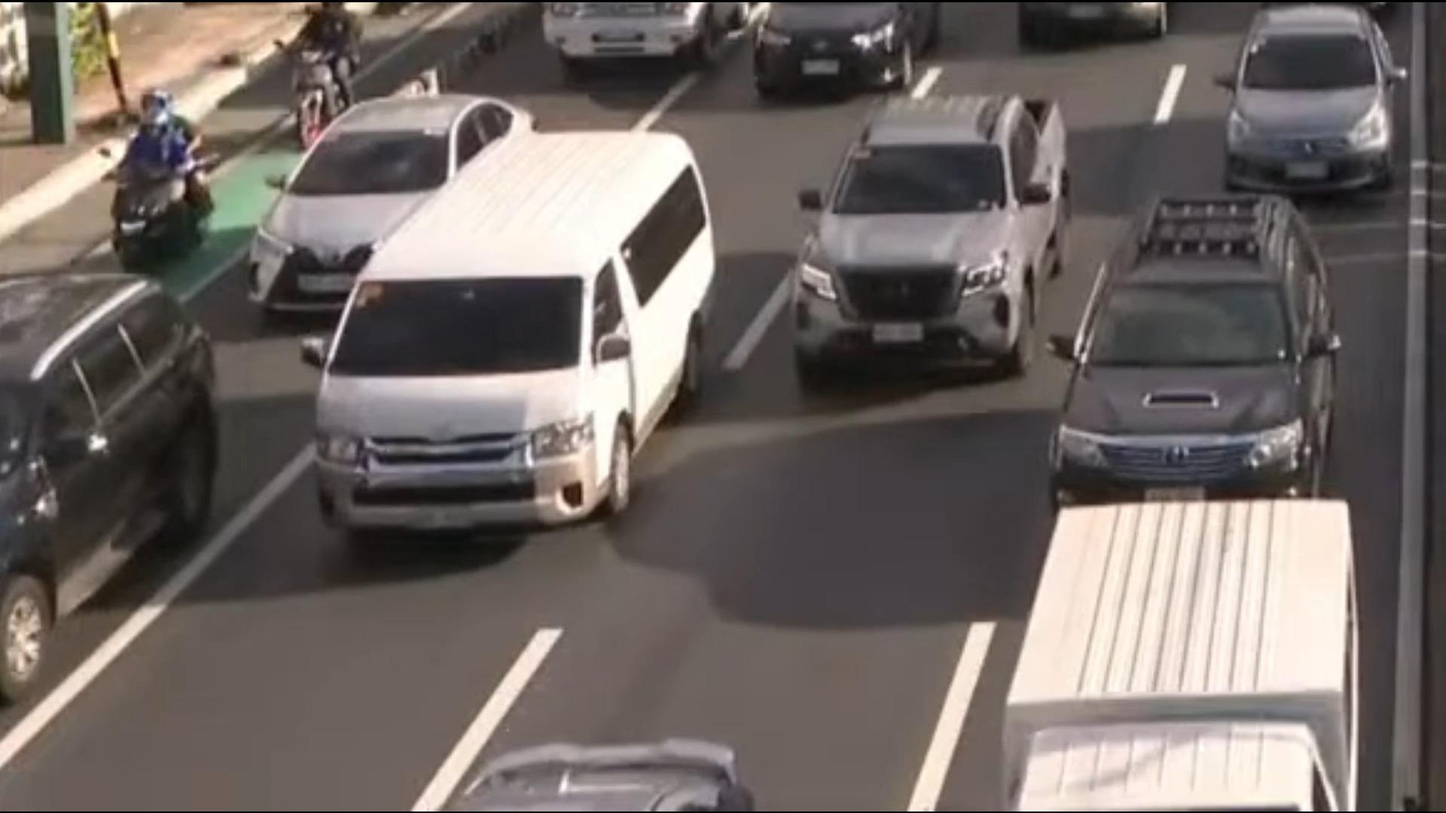Motorcycle: (108, 82, 203, 275), (278, 0, 372, 154)
Multicab: (1004, 504, 1368, 813)
Pickup: (798, 100, 1056, 375)
SUV: (0, 275, 224, 697), (1056, 195, 1342, 492)
Sedan: (249, 98, 526, 306), (1220, 10, 1399, 187)
Van: (311, 129, 721, 536)
